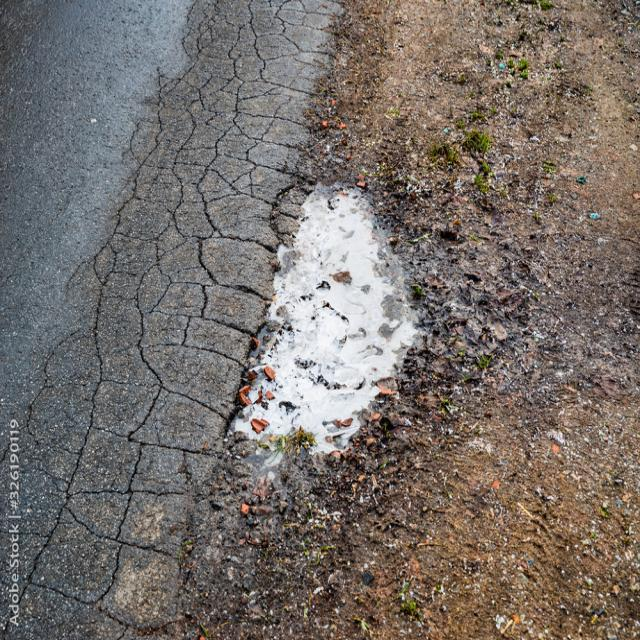Drain Hole: (54, 4, 362, 518)
